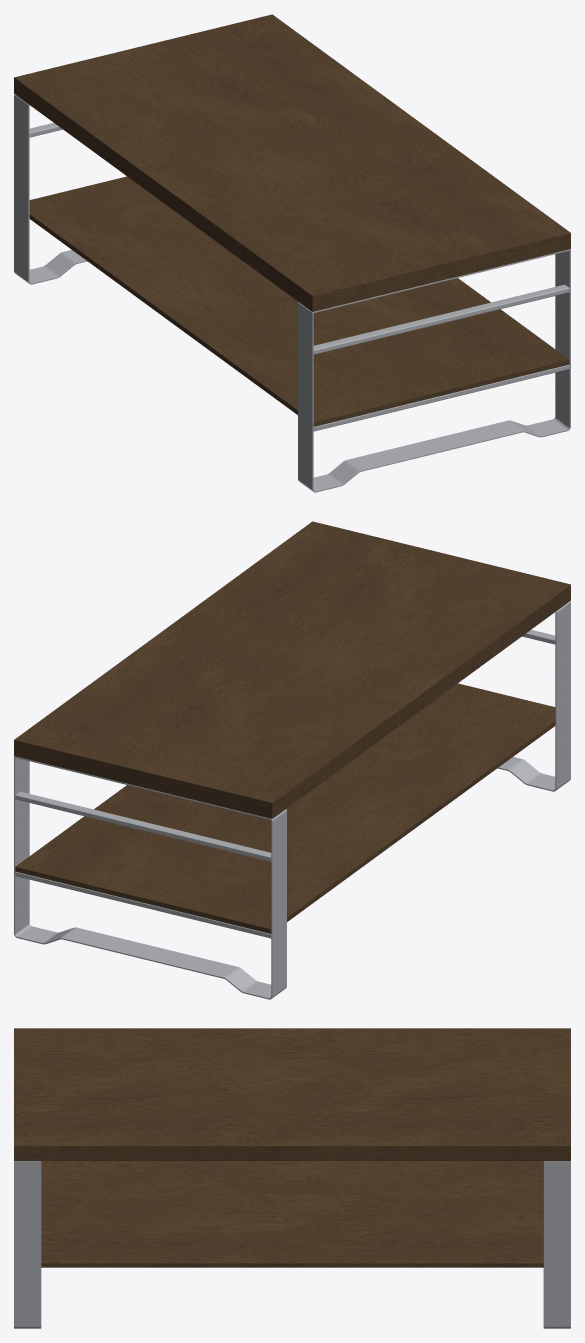
File: furniture_table_coffee_low_a01.glb
3 renders of one model, top to bottom at view 1: azimuth 30°, elevation 25°; view 2: azimuth 150°, elevation 25°; view 3: azimuth 270°, elevation 25°, orthographic. The views are drawn at different scales.
Visible parts, largest first — view 1: sm_furniture_table_coffee_low_a01_01; view 2: sm_furniture_table_coffee_low_a01_01; view 3: sm_furniture_table_coffee_low_a01_01.
Part boxes in pixels (x1,y1,x2,y2): sm_furniture_table_coffee_low_a01_01: (14,14,570,492); sm_furniture_table_coffee_low_a01_01: (14,521,570,999); sm_furniture_table_coffee_low_a01_01: (14,1028,570,1328).
Size of the model in its own units: 0.6 by 0.4427 by 1.2.
Materials: 3 (3 with a texture image).
